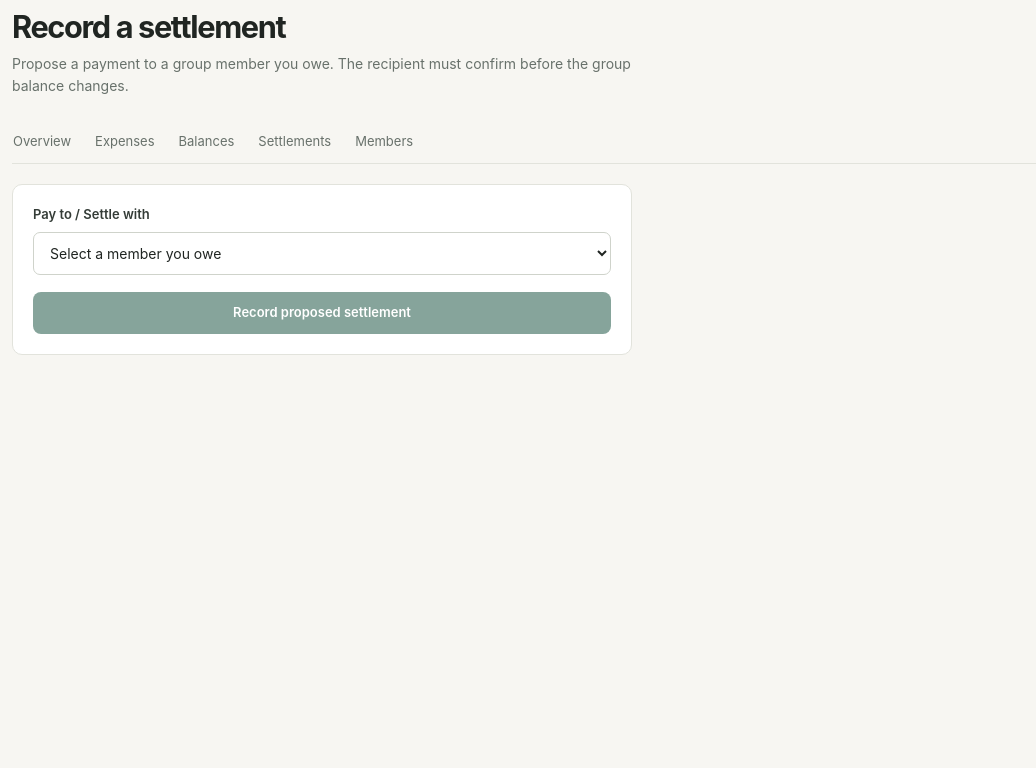
Test case: account settings and expense details › prefills a partial settlement from server-calculated available debt
The image size is (1036, 768).
Select "Alice · ₹50.00 available" in the dropdown labelled "Pay to / Settle with". click: (322,253)
box: [33,232,611,275]
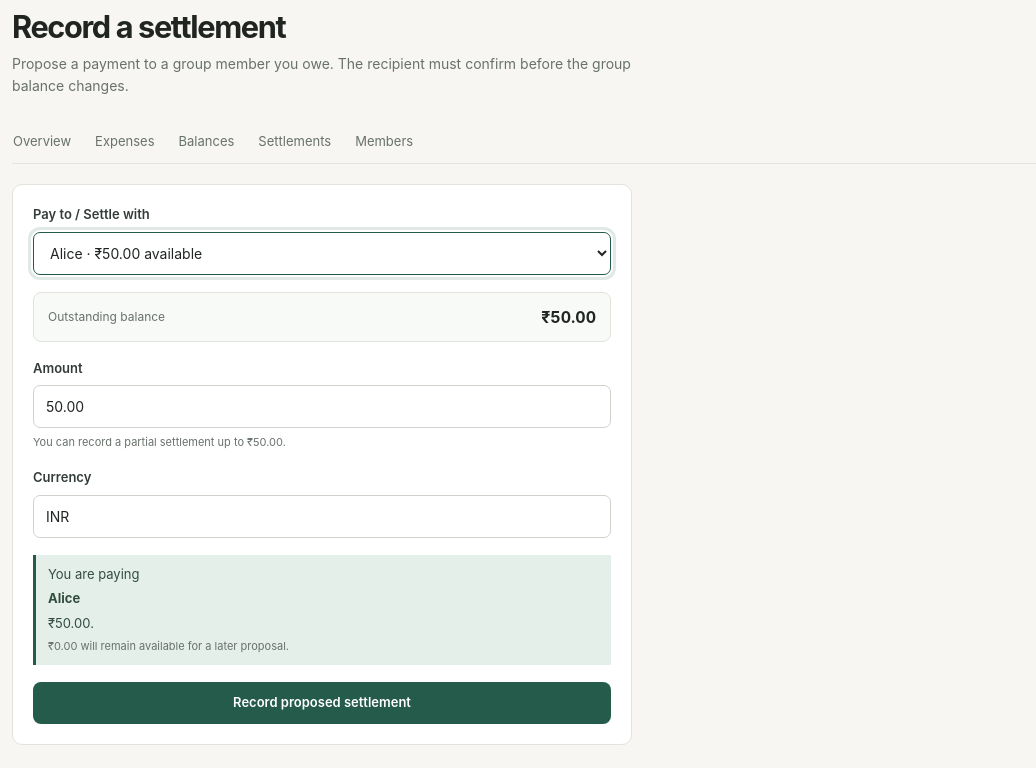
Expected: the number field labelled "Amount" holds "50"
Replace the text in the number field labelled "Amount" with "20". click: (322,407)
box: [33,385,611,428]
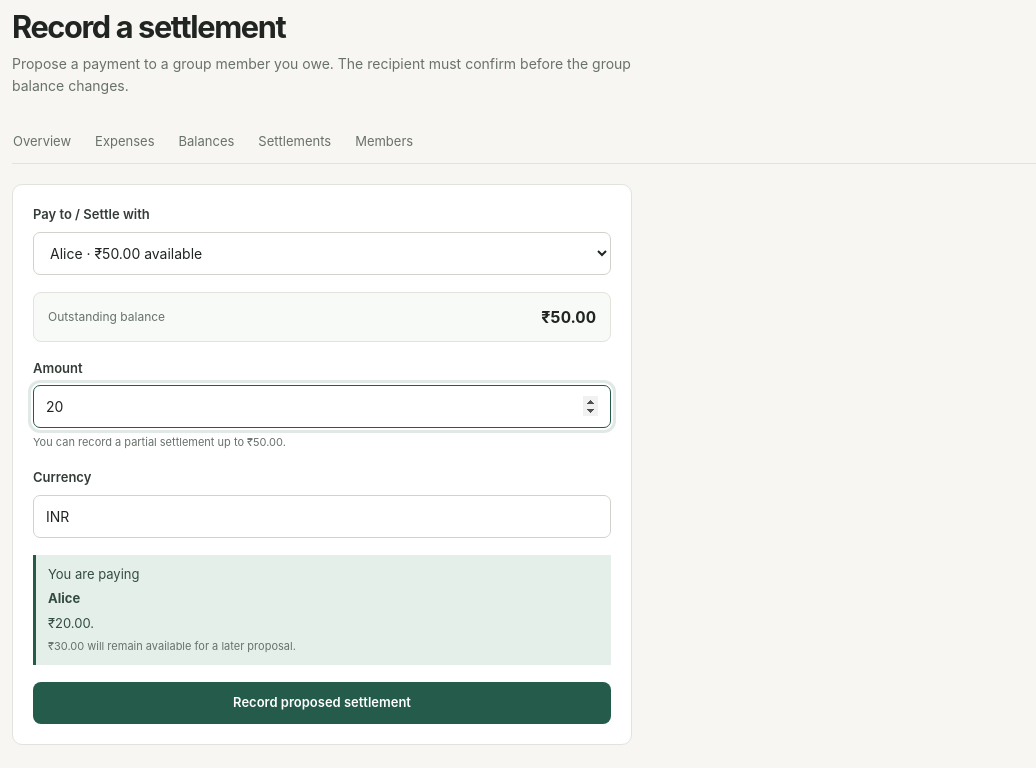
Expected: the text "You are paying" shows "You are paying Alice ₹20.00.", [33,555,611,665]
Click the button "Record proposed settlement". click: (322,703)
box: [33,682,611,724]
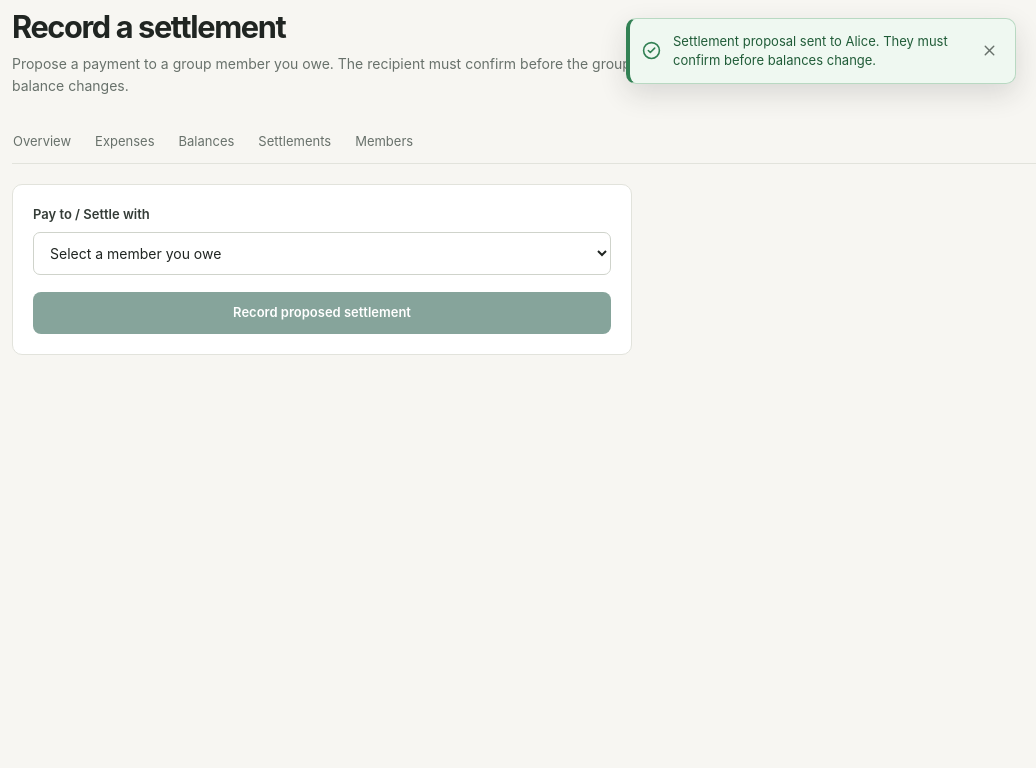
Expected: the message shows "Settlement proposal sent to Alice", [673,33,948,68]
